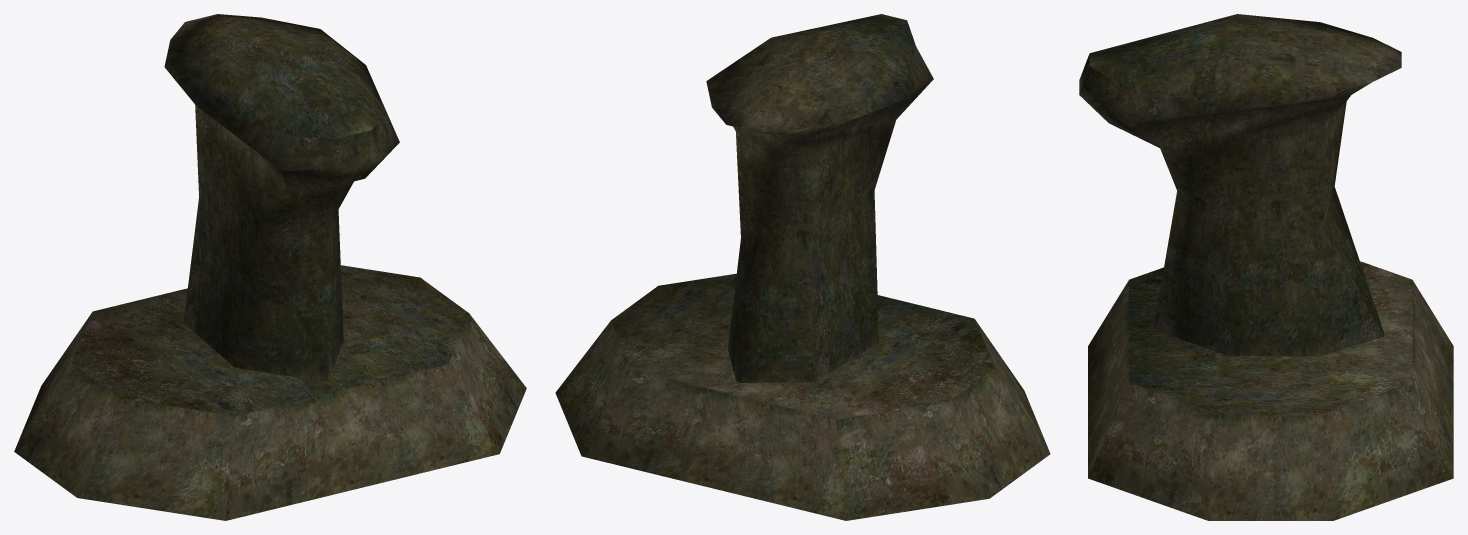
Rendered from NW_HARBOUR_IRONROPEHOLDER_01.glb.
The picture shows the model from 3 angles, left to right: view 1: azimuth 30°, elevation 25°; view 2: azimuth 150°, elevation 25°; view 3: azimuth 270°, elevation 25°; orthographic projection. The views are drawn at different scales.
Parts seen in each view (by area): view 1: Mesh; view 2: Mesh; view 3: Mesh.
Part boxes in pixels (x1=…): Mesh: x1=14, y1=14, x2=526, y2=520; Mesh: x1=555, y1=14, x2=1050, y2=520; Mesh: x1=1079, y1=14, x2=1453, y2=520.
Size of the model in its own units: 1.18 by 0.974 by 0.8596.
Materials: 1 (1 with a texture image).
